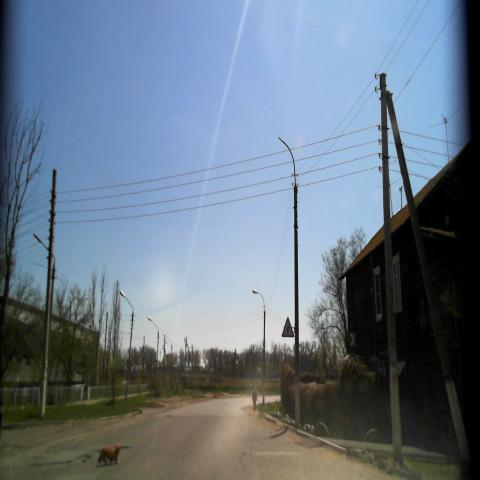1_11: (280, 315, 294, 338)
